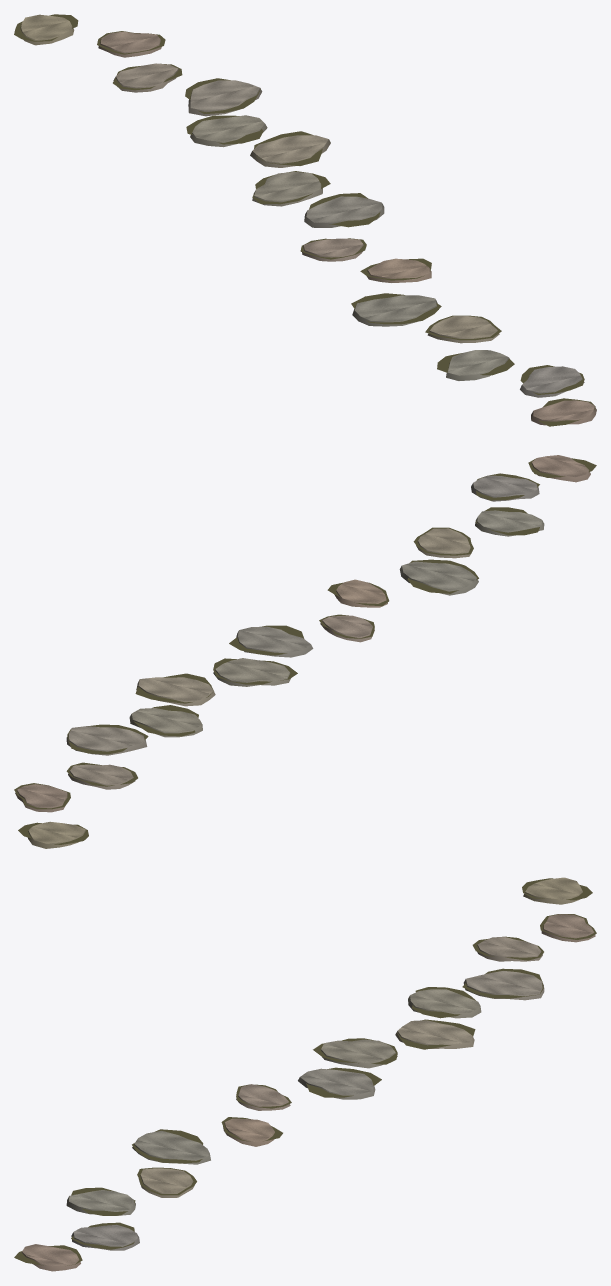
File: plugin-mvmvf9qm-30qy.glb
3 views of the same model, one above another, from view 1: azimuth 30°, elevation 25°; view 2: azimuth 150°, elevation 25°; view 3: azimuth 330°, elevation 25° (orthographic). The views are drawn at different scales.
Parts seen in each view (by area): view 1: stepping-stones-top, stepping-stone-edges; view 2: stepping-stones-top, stepping-stone-edges; view 3: stepping-stones-top, stepping-stone-edges.
Boxes of the visible parts, bbox=[...] form: stepping-stones-top: bbox=[20, 14, 596, 425]; stepping-stone-edges: bbox=[14, 14, 595, 426]; stepping-stones-top: bbox=[15, 455, 590, 848]; stepping-stone-edges: bbox=[14, 458, 596, 844]; stepping-stones-top: bbox=[21, 877, 595, 1271]; stepping-stone-edges: bbox=[14, 878, 596, 1265].
Size of the model in its own units: 1.56 by 0.0401 by 9.14.
Materials: 2 (1 with a texture image).
